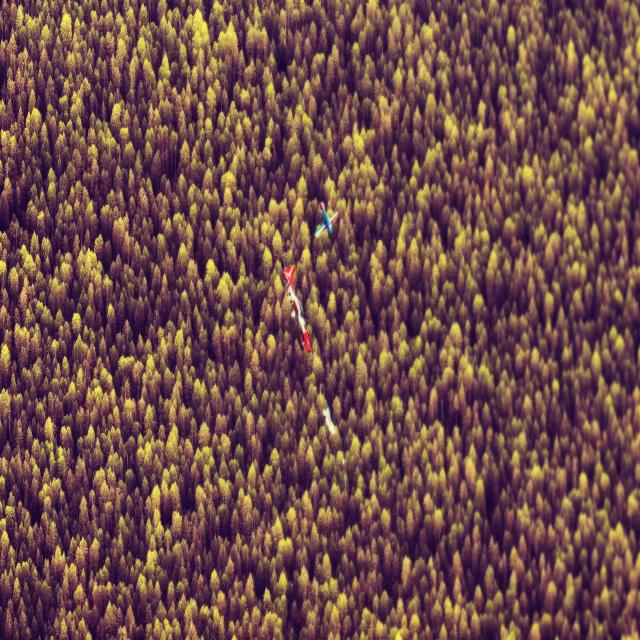airplane: (282, 264, 312, 353), (314, 201, 338, 237)
